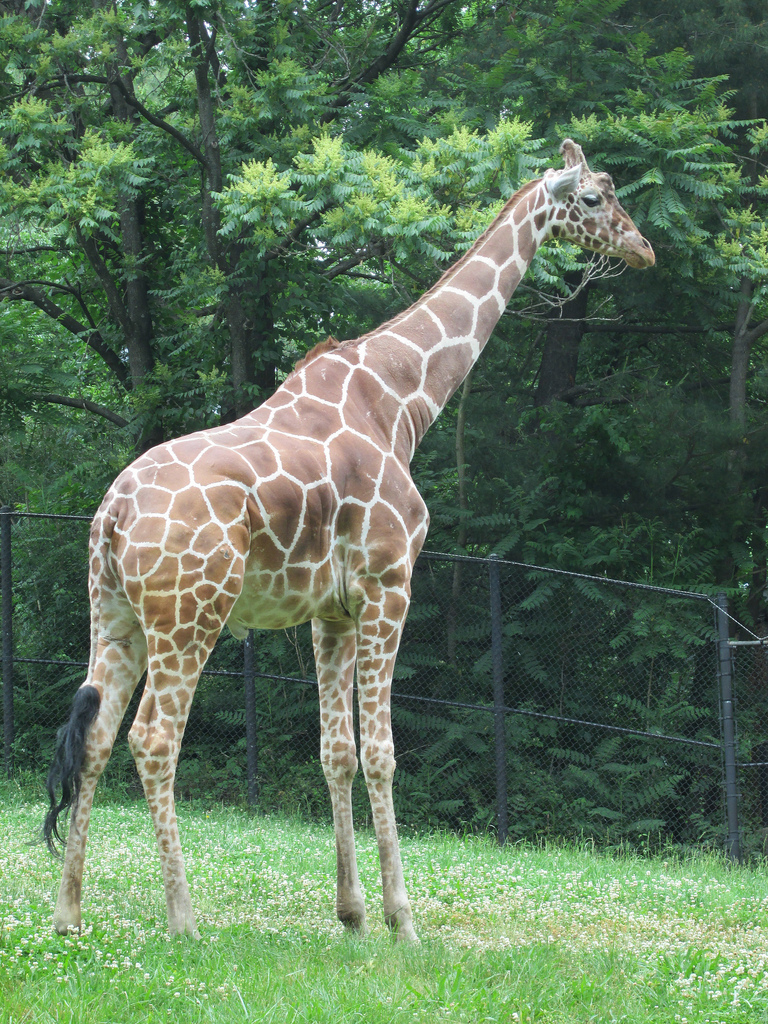giraffe: (28, 127, 721, 955)
